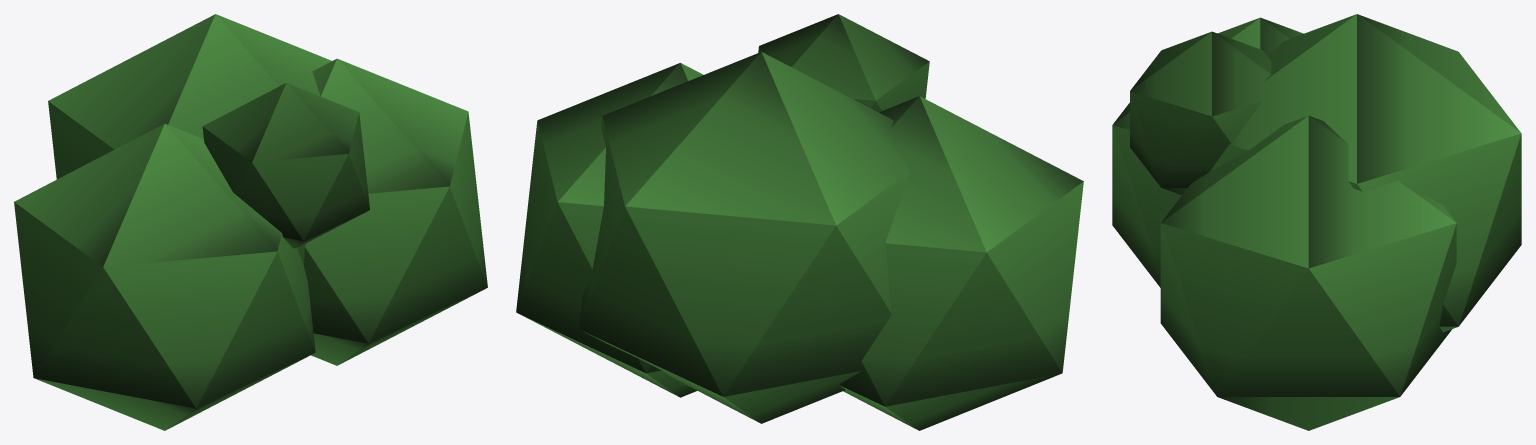
Rendered from bush.glb.
3 views of the same model, side by side, from view 1: azimuth 30°, elevation 25°; view 2: azimuth 150°, elevation 25°; view 3: azimuth 270°, elevation 25° (orthographic). The views are drawn at different scales.
Visible parts, largest first — view 1: bush; view 2: bush; view 3: bush.
Part boxes in pixels (x1,y1,x2,y2): bush: (14,14,487,430); bush: (516,14,1083,430); bush: (1112,14,1521,430).
Size of the model in its own units: 0.562 by 0.42 by 0.4232.
Materials: 1 (1 with a texture image).
